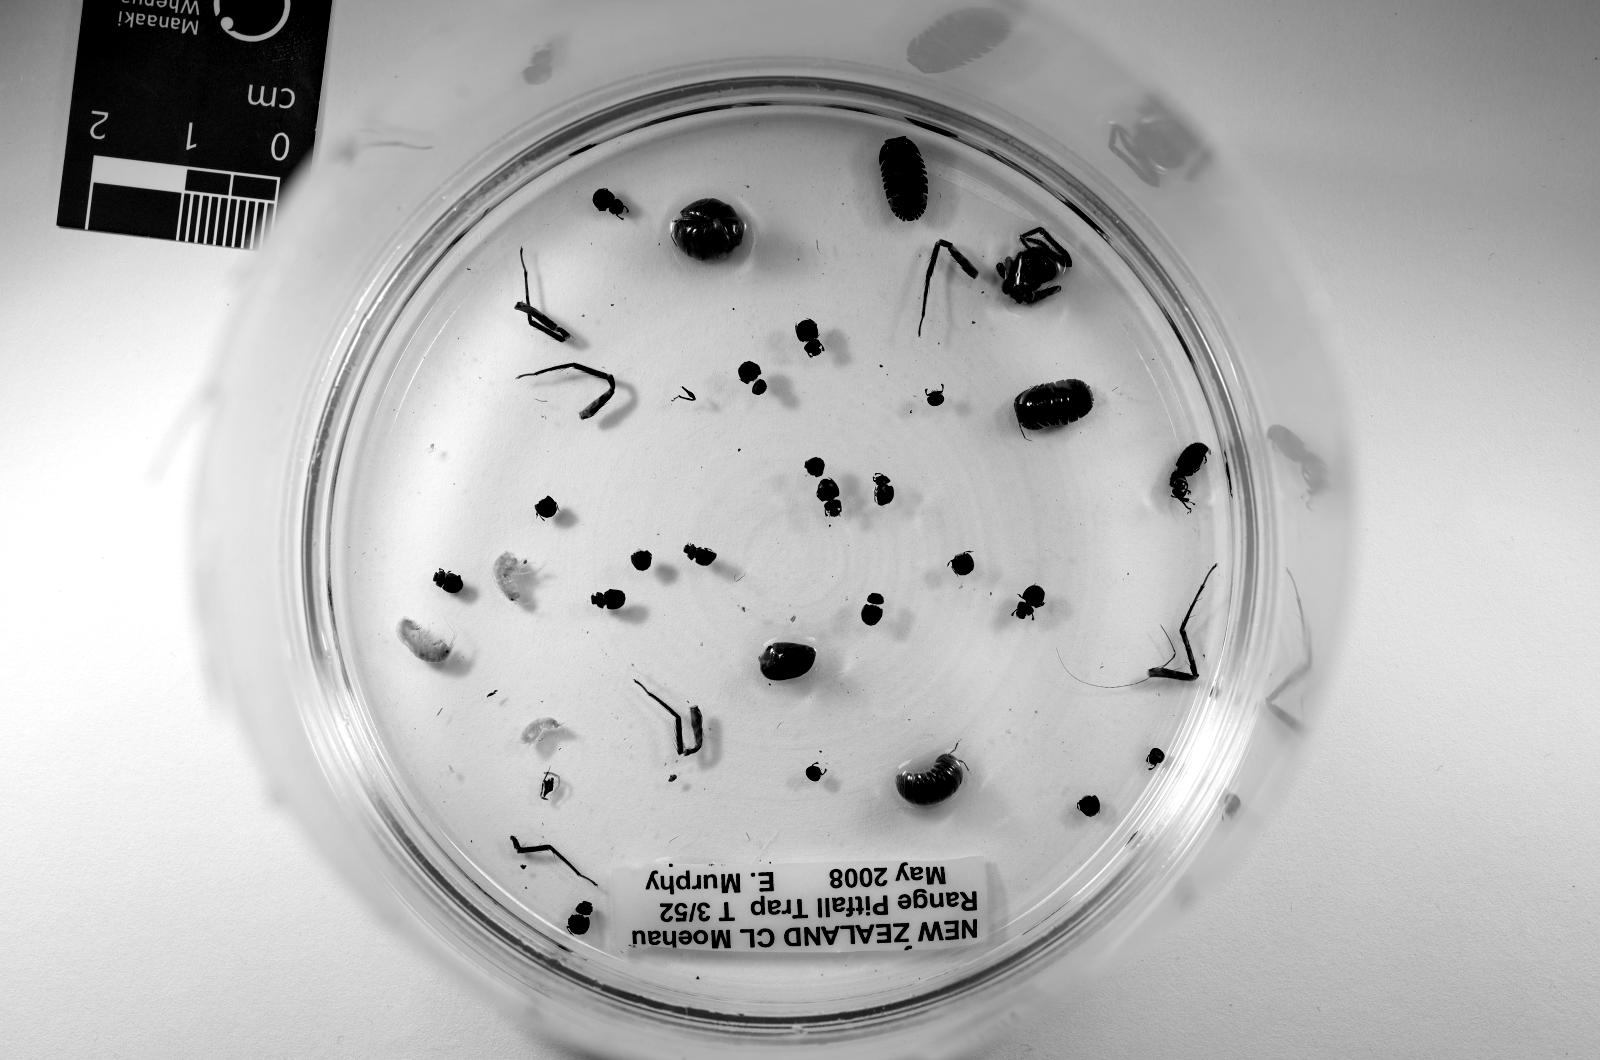amphipoda: (397, 618, 453, 661), (494, 552, 522, 600), (522, 717, 563, 745)
araneae: (997, 227, 1071, 304)
coleoptera: (1168, 444, 1210, 512), (1012, 584, 1044, 618), (594, 189, 628, 218), (816, 478, 841, 516), (797, 319, 822, 357), (738, 360, 765, 394), (569, 900, 594, 935), (862, 593, 885, 627), (434, 568, 462, 593), (685, 543, 715, 565), (872, 476, 894, 506), (590, 590, 626, 608)
isopoda: (672, 199, 744, 260), (1016, 379, 1094, 432), (879, 137, 928, 220), (896, 755, 966, 804)
